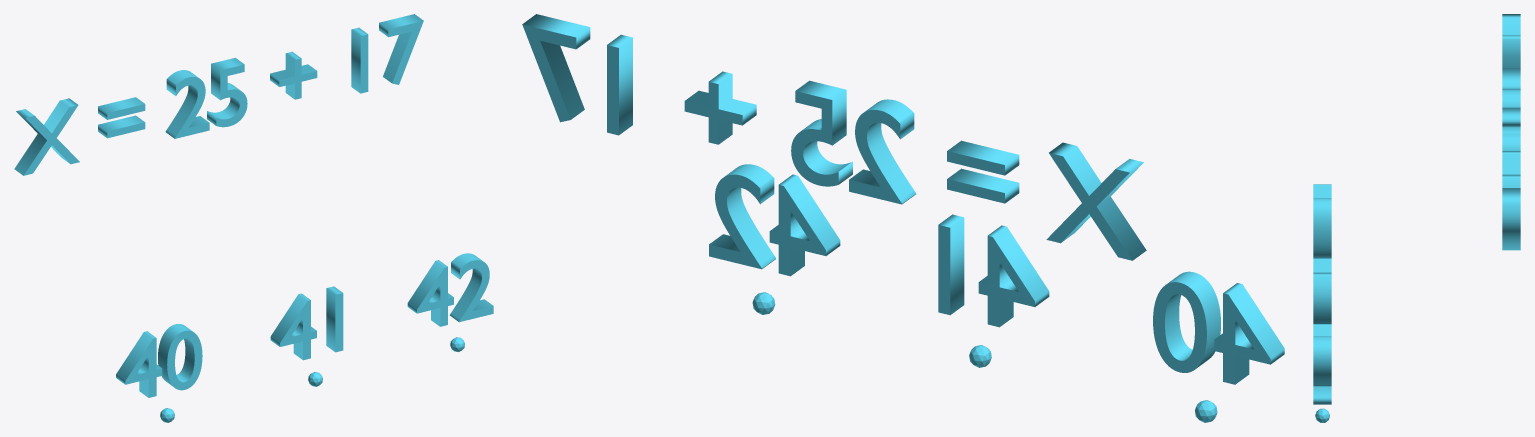
The model's file is console_test_002.fbx.
3 views of the same model, side by side, from view 1: azimuth 30°, elevation 25°; view 2: azimuth 150°, elevation 25°; view 3: azimuth 270°, elevation 25° (orthographic). The views are drawn at different scales.
Parts seen in each view (by area): view 1: Txt_Test_01.003, Failure.012, Success.037, Failure.013; view 2: Txt_Test_01.003, Failure.012, Success.037, Failure.013; view 3: Txt_Test_01.003, Success.037, Failure.012, Failure.013.
Boxes of the visible parts, <box> form: Txt_Test_01.003: <box>14,14,423,175</box>; Failure.012: <box>116,324,202,397</box>; Success.037: <box>407,253,493,326</box>; Failure.013: <box>270,286,343,360</box>; Txt_Test_01.003: <box>522,14,1146,260</box>; Failure.012: <box>1153,271,1284,384</box>; Success.037: <box>709,164,840,276</box>; Failure.013: <box>938,214,1049,327</box>; Txt_Test_01.003: <box>1502,14,1520,250</box>; Success.037: <box>1313,324,1331,404</box>; Failure.012: <box>1313,184,1331,258</box>; Failure.013: <box>1313,258,1331,323</box>.
Bounding box in the file's own units: 1.51 × 0.9053 × 0.691.
